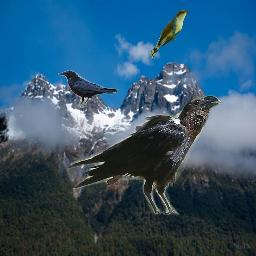Crow: (67, 95, 221, 215), (58, 70, 118, 108)
Cuckoo: (150, 10, 189, 58)
